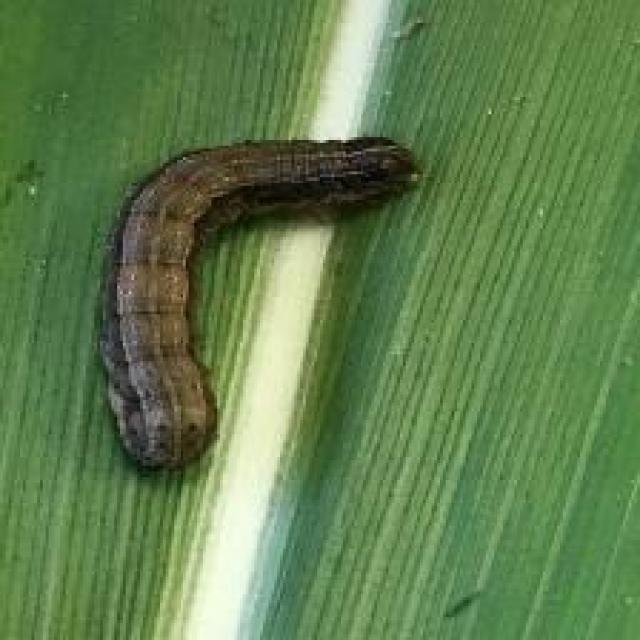Plaga: (94, 94, 445, 499)
